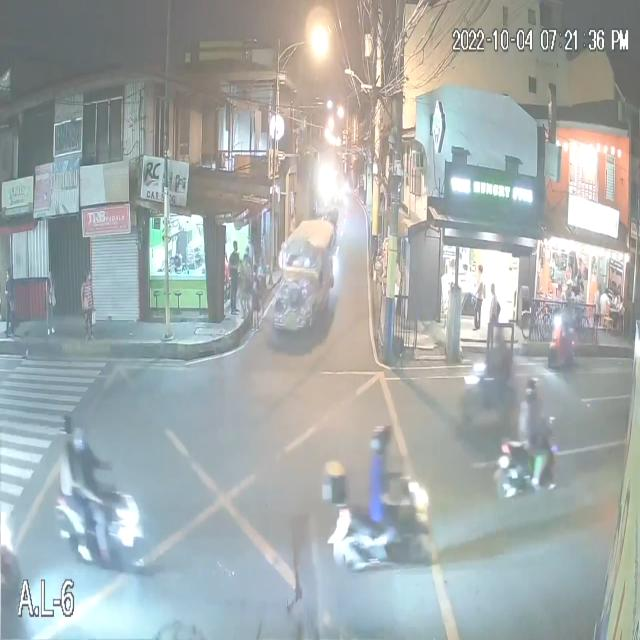Full-Faced: (523, 373, 540, 399)
Half-Faced: (67, 422, 88, 453), (373, 426, 392, 456)
